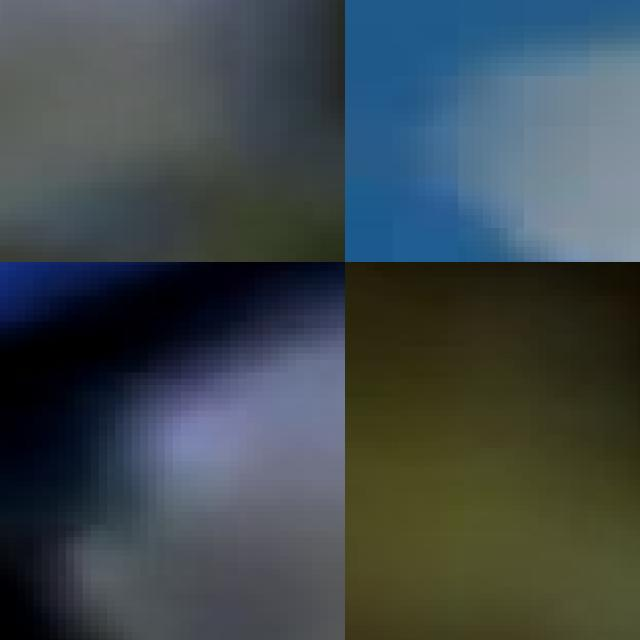fish: (0, 0, 345, 262), (74, 309, 345, 640)
